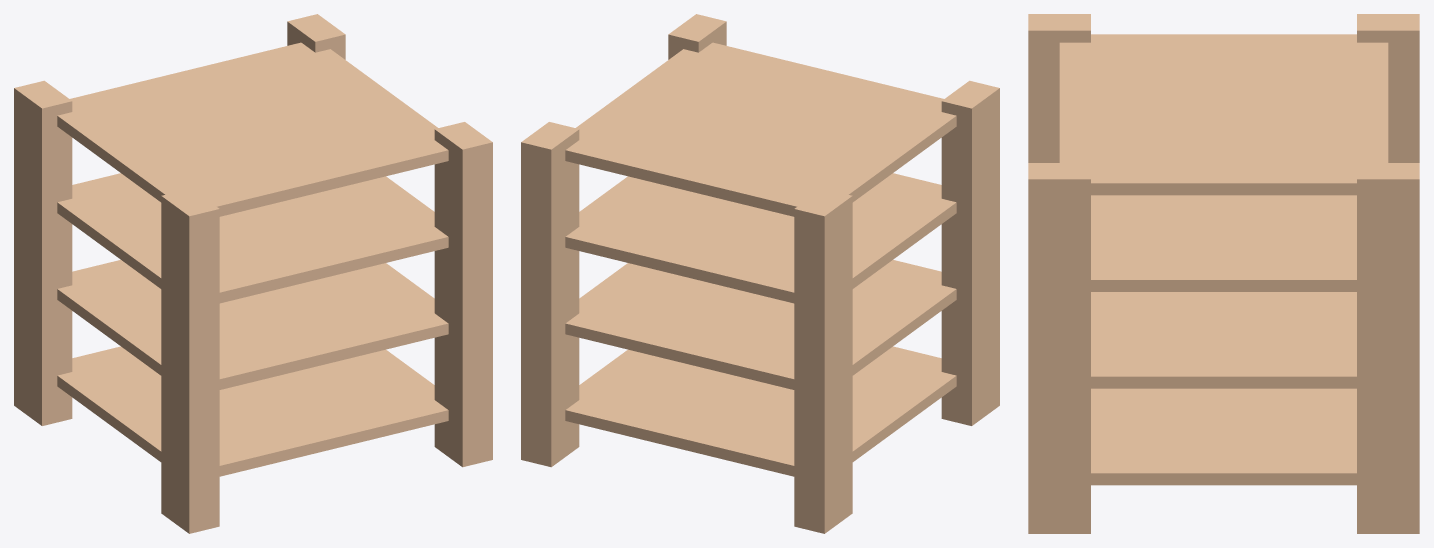
File: kn-bookcase-open.glb
3 renders of one model, left to right at view 1: azimuth 30°, elevation 25°; view 2: azimuth 150°, elevation 25°; view 3: azimuth 270°, elevation 25°, orthographic. The views are drawn at different scales.
Visible parts, largest first — view 1: bookcaseOpen(Clone); view 2: bookcaseOpen(Clone); view 3: bookcaseOpen(Clone).
Boxes of the visible parts, left/top/right/bottom form: bookcaseOpen(Clone): left=14, top=14, right=492, bottom=533; bookcaseOpen(Clone): left=521, top=14, right=999, bottom=533; bookcaseOpen(Clone): left=1028, top=14, right=1419, bottom=533.
Bounding box in the file's own units: 1 × 1 × 1.
